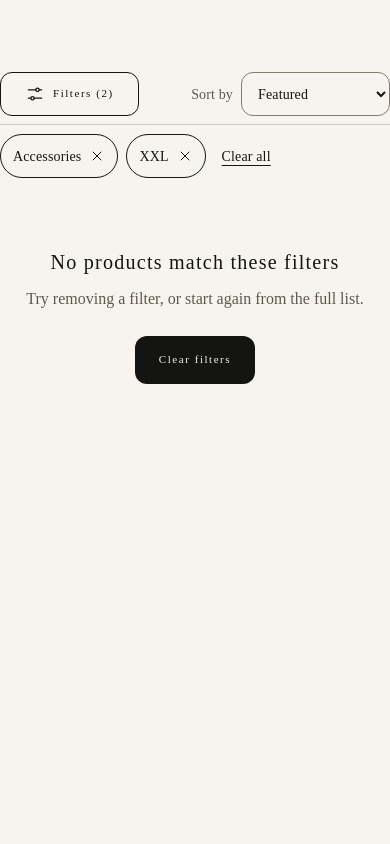
filters drawer below the sidebar breakpoint (RULES 8.6) › names the drawer action, not a status, when nothing matches (en)
The width and height of the screenshot is (390, 844).
What coordinates should you click on to do the following:
click the button "Filters (2)"
I would click on:
 (69, 94)
Its box is [0,72,139,116].
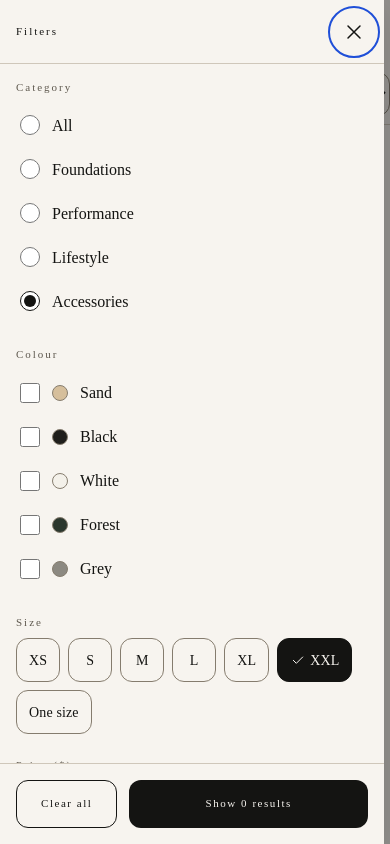
Check: the button "Show 0 results" is shown, box [130,780,368,828]
